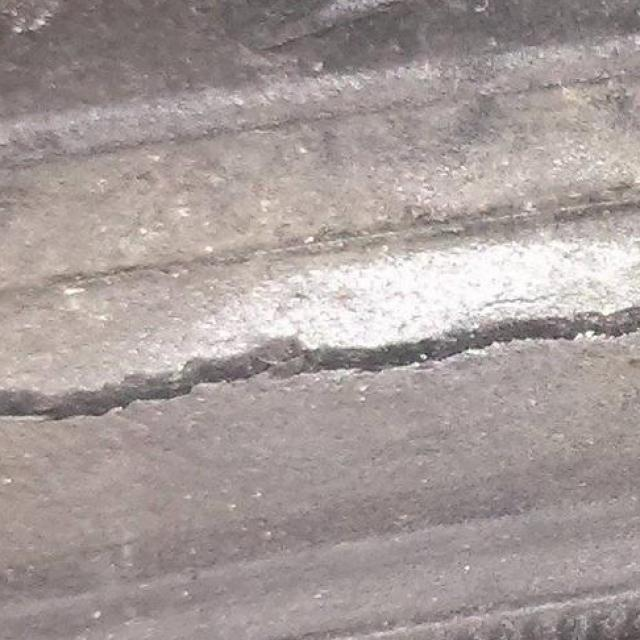Cracks: (0, 271, 639, 449)
